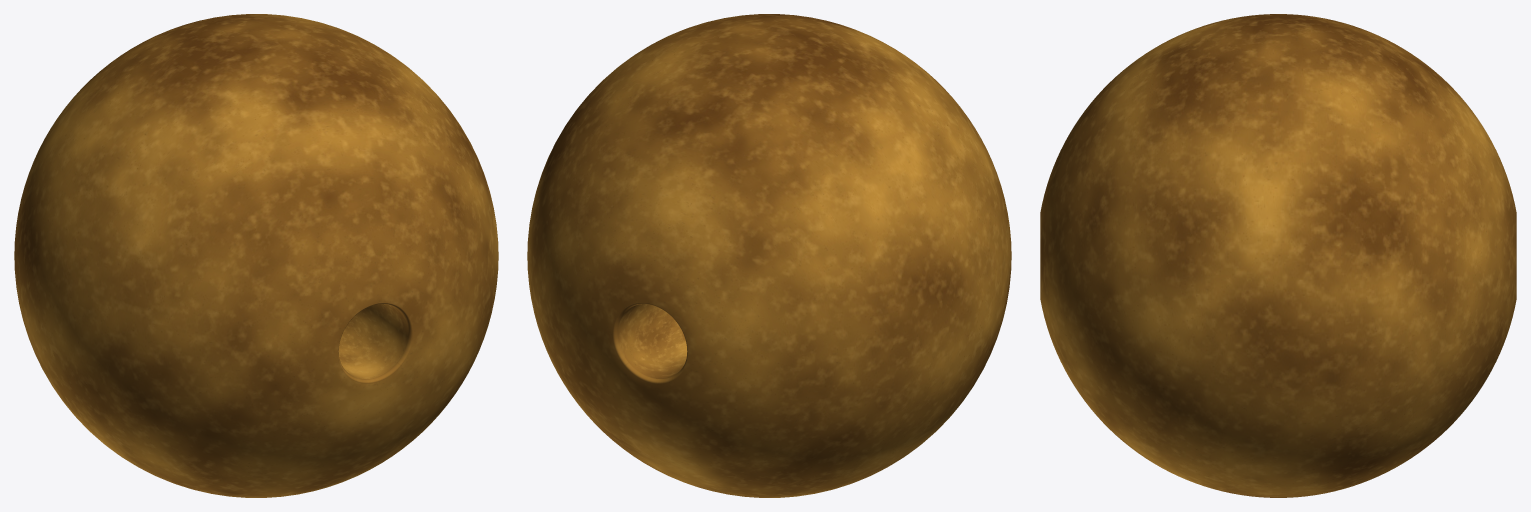
File: yellow-sapphire-6mm.glb
The picture shows the model from 3 angles, left to right: view 1: azimuth 30°, elevation 25°; view 2: azimuth 150°, elevation 25°; view 3: azimuth 270°, elevation 25°; orthographic projection.
Parts seen in each view (by area): view 1: yellow-sapphire.001; view 2: yellow-sapphire.001; view 3: yellow-sapphire.001.
Part boxes in pixels (<box>): yellow-sapphire.001: <box>14,14,498,497</box>; yellow-sapphire.001: <box>527,14,1011,497</box>; yellow-sapphire.001: <box>1040,14,1516,497</box>.
Bounding box in the file's own units: 0.006 × 0.006 × 0.0059.
Materials: 2 (1 with a texture image).
